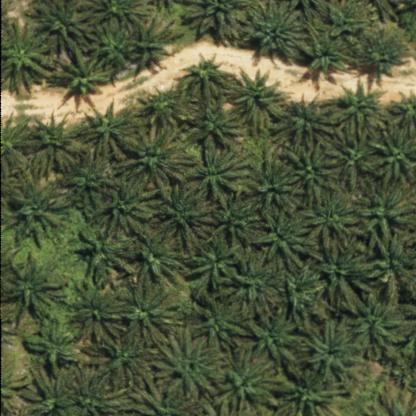Palm Oil: (123, 123, 200, 199), (214, 351, 294, 416), (3, 252, 68, 327), (154, 336, 230, 399), (64, 277, 132, 347), (318, 236, 376, 315), (75, 214, 142, 282), (188, 285, 256, 351), (230, 65, 294, 133), (97, 173, 163, 238), (123, 277, 184, 347), (301, 321, 373, 380), (90, 331, 160, 391), (245, 308, 313, 368), (160, 184, 218, 252), (83, 97, 141, 164), (188, 96, 243, 166), (255, 206, 317, 268), (342, 292, 405, 353), (51, 40, 115, 100), (191, 145, 253, 205), (31, 111, 86, 178), (298, 20, 358, 78), (356, 184, 416, 242), (248, 156, 305, 216), (306, 193, 365, 250), (347, 26, 411, 78), (11, 179, 70, 235), (231, 254, 281, 319), (327, 133, 382, 192), (208, 190, 262, 250), (289, 141, 339, 205), (334, 78, 389, 136), (284, 91, 338, 148), (132, 229, 190, 282), (24, 317, 85, 367), (66, 155, 119, 211), (130, 12, 181, 69), (89, 20, 142, 74), (286, 258, 330, 322), (370, 128, 416, 188), (140, 84, 194, 135), (188, 244, 244, 288), (184, 52, 234, 96)
